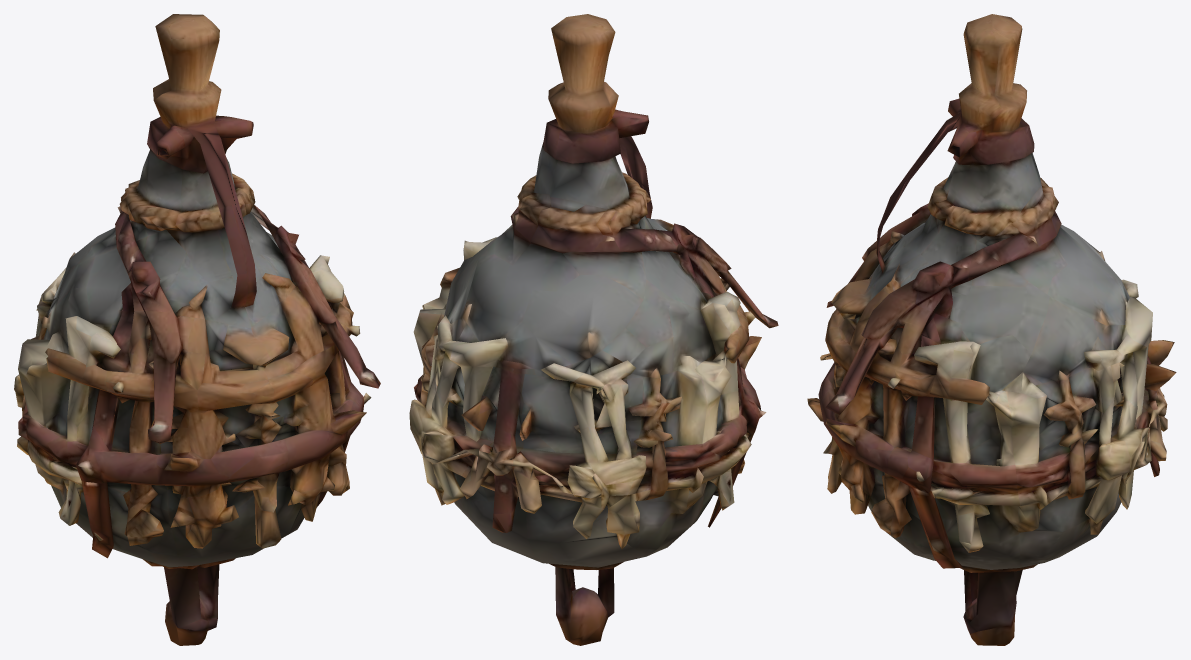
File: cantimplora.glb
3 views of the same model, side by side, from view 1: azimuth 30°, elevation 25°; view 2: azimuth 150°, elevation 25°; view 3: azimuth 270°, elevation 25° (orthographic).
Parts seen in each view (by area): view 1: tripo_node_d123633a-bbb9-4dbf-940b-b1b04e74d599; view 2: tripo_node_d123633a-bbb9-4dbf-940b-b1b04e74d599; view 3: tripo_node_d123633a-bbb9-4dbf-940b-b1b04e74d599.
Part boxes in pixels (<box>): tripo_node_d123633a-bbb9-4dbf-940b-b1b04e74d599: <box>14,14,380,645</box>; tripo_node_d123633a-bbb9-4dbf-940b-b1b04e74d599: <box>409,14,778,645</box>; tripo_node_d123633a-bbb9-4dbf-940b-b1b04e74d599: <box>807,14,1176,645</box>.
Size of the model in its own units: 0.5165 by 0.9963 by 0.5347.
Materials: 1 (1 with a texture image).
